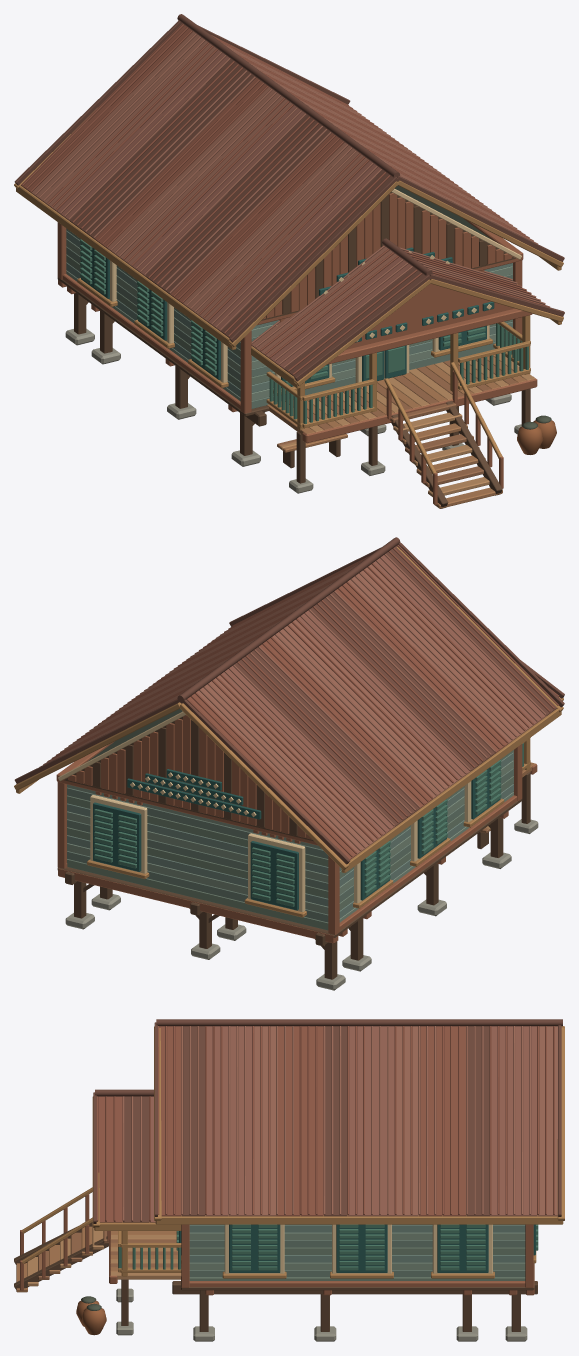
3 views of the same model, one above another, from view 1: azimuth 30°, elevation 25°; view 2: azimuth 150°, elevation 25°; view 3: azimuth 270°, elevation 25° (orthographic). The views are drawn at different scales.
Parts seen in each view (by area): view 1: Ribbed Zinc Roofs, Serambi and Entry Stair, Gable Fretwork, Shiplap Wall Boards, Louvred Timber Joinery, Raised Hardwood Frame, Under-House Fittings; view 2: Ribbed Zinc Roofs, Shiplap Wall Boards, Louvred Timber Joinery, Gable Fretwork, Raised Hardwood Frame; view 3: Ribbed Zinc Roofs, Shiplap Wall Boards, Louvred Timber Joinery, Serambi and Entry Stair, Raised Hardwood Frame, Under-House Fittings.
Part boxes in pixels (<box>): Ribbed Zinc Roofs: <box>14,14,564,388</box>; Serambi and Entry Stair: <box>266,308,537,508</box>; Gable Fretwork: <box>261,188,521,349</box>; Shiplap Wall Boards: <box>57,185,523,413</box>; Louvred Timber Joinery: <box>77,239,492,395</box>; Raised Hardwood Frame: <box>57,277,530,493</box>; Under-House Fittings: <box>277,415,556,468</box>; Ribbed Zinc Roofs: <box>14,537,564,872</box>; Shiplap Wall Boards: <box>56,709,522,935</box>; Louvred Timber Joinery: <box>87,759,504,917</box>; Gable Fretwork: <box>58,711,313,841</box>; Raised Hardwood Frame: <box>57,772,538,990</box>; Ribbed Zinc Roofs: <box>92,1019,564,1230</box>; Shiplap Wall Boards: <box>181,1224,533,1287</box>; Louvred Timber Joinery: <box>176,1224,538,1278</box>; Serambi and Entry Stair: <box>14,1187,181,1292</box>; Raised Hardwood Frame: <box>116,1263,537,1341</box>; Under-House Fittings: <box>76,1296,106,1335</box>.
Size of the model in its own units: 9.71 by 7.69 by 14.74.
